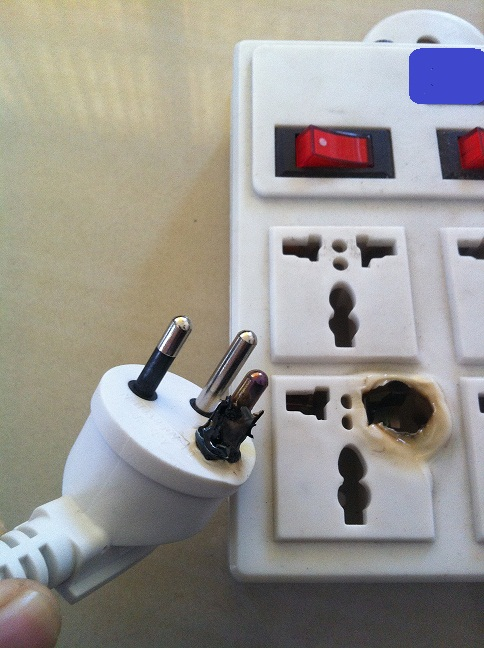Three_eye_plug: (205, 8, 484, 600)
